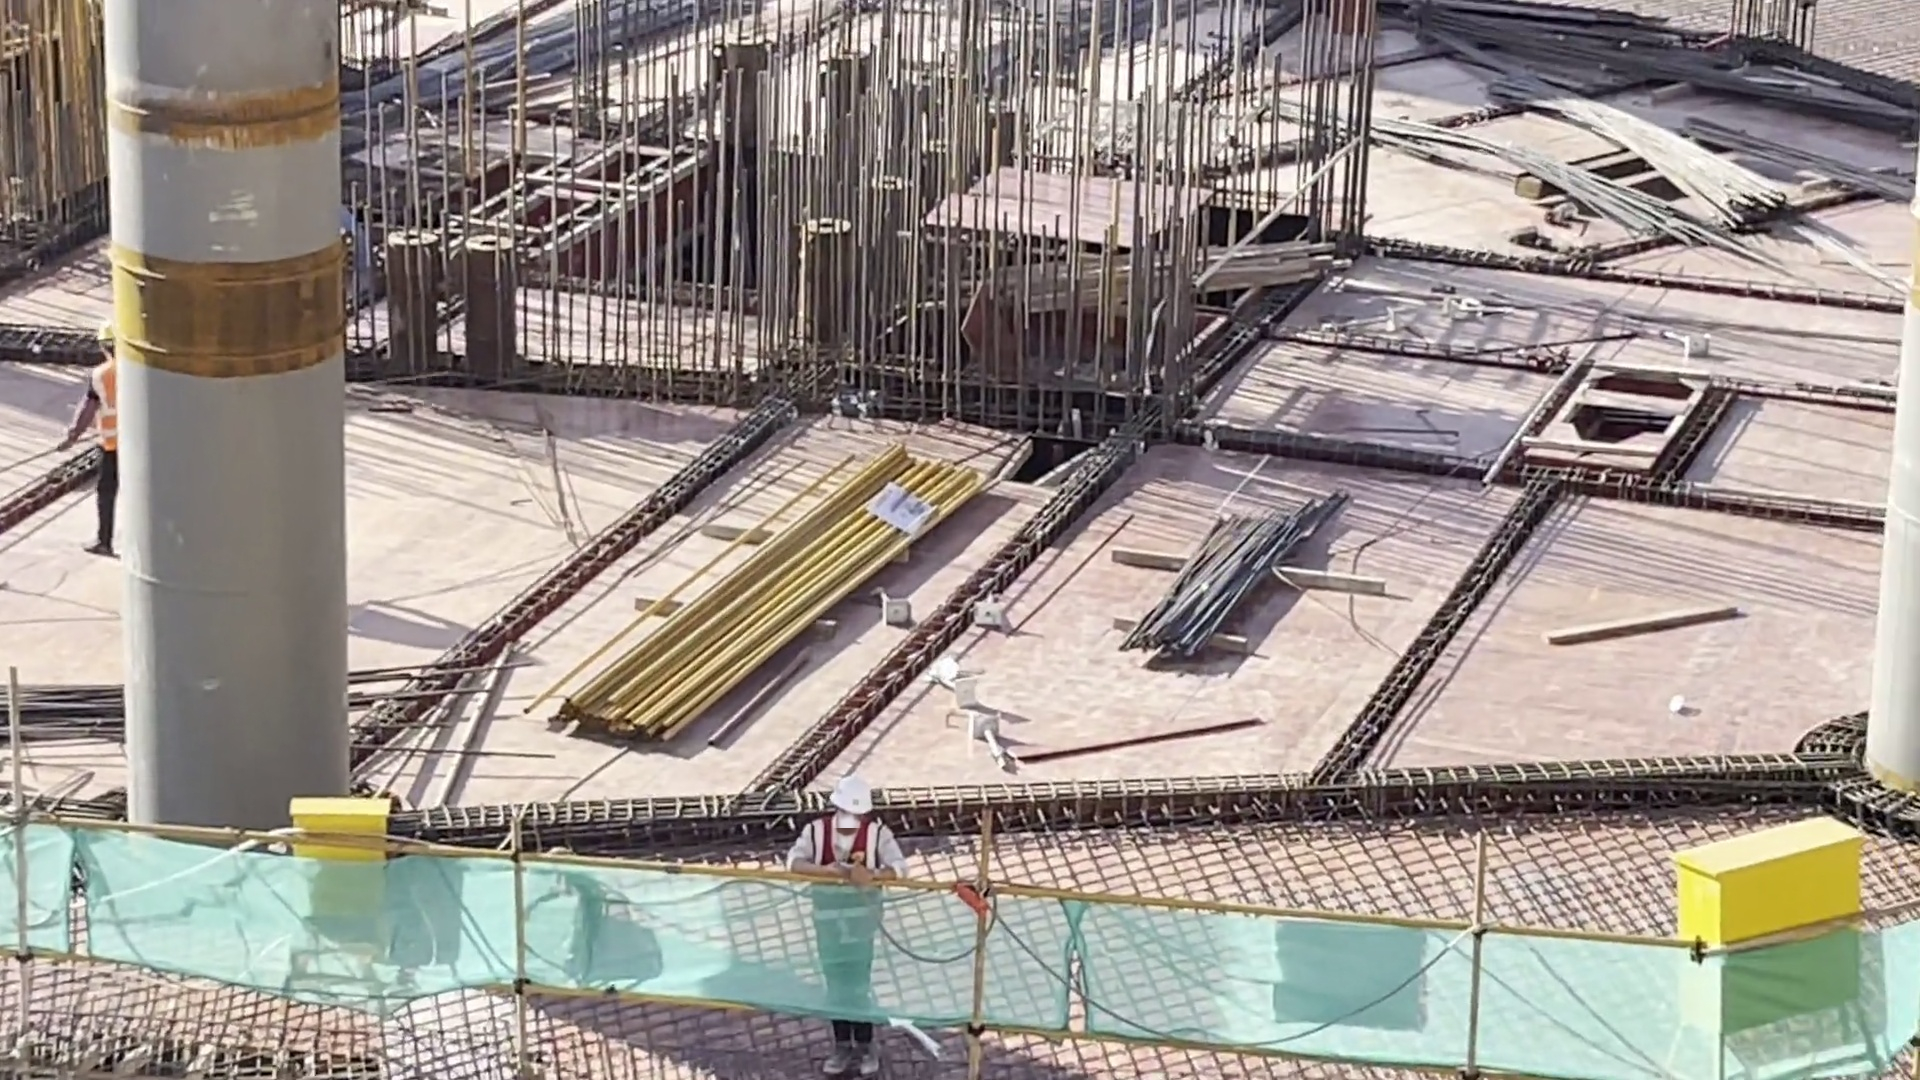ebox: (1669, 816, 1871, 1020), (282, 791, 393, 950)
helmet: (831, 775, 872, 816)
person: (777, 761, 912, 1076)
vest: (807, 815, 886, 941)
